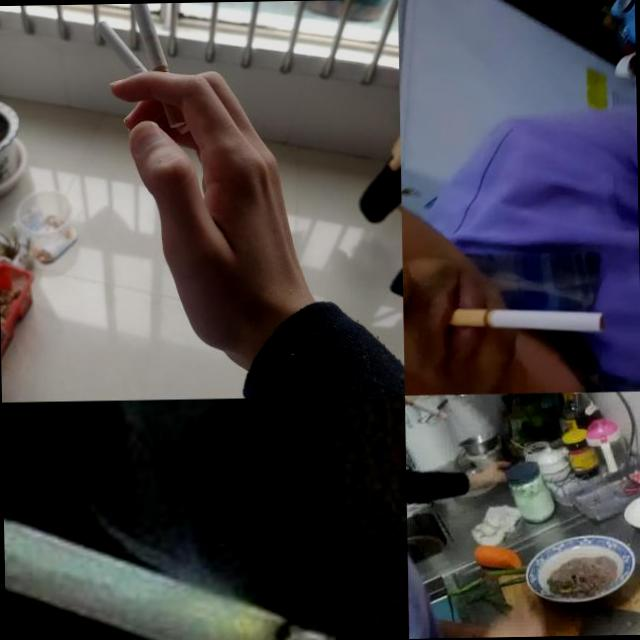cigarette: (2, 443, 369, 640), (96, 18, 192, 137), (120, 2, 186, 132), (448, 306, 606, 336), (404, 394, 448, 420)
